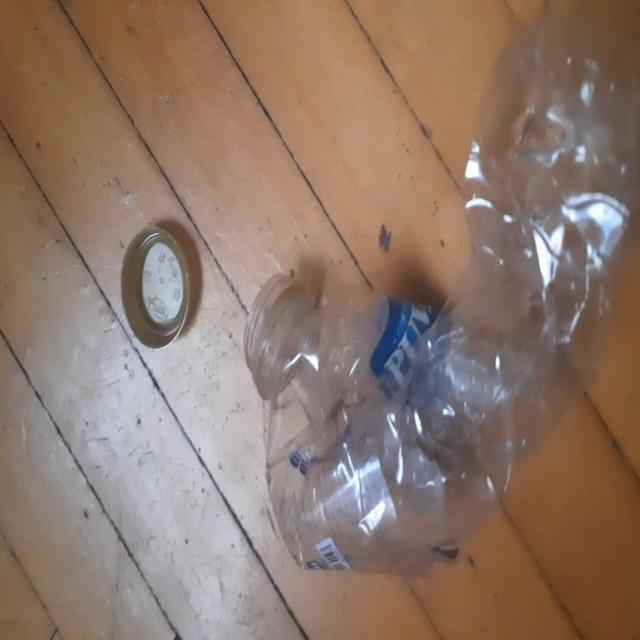Plastic: (252, 14, 638, 574)
